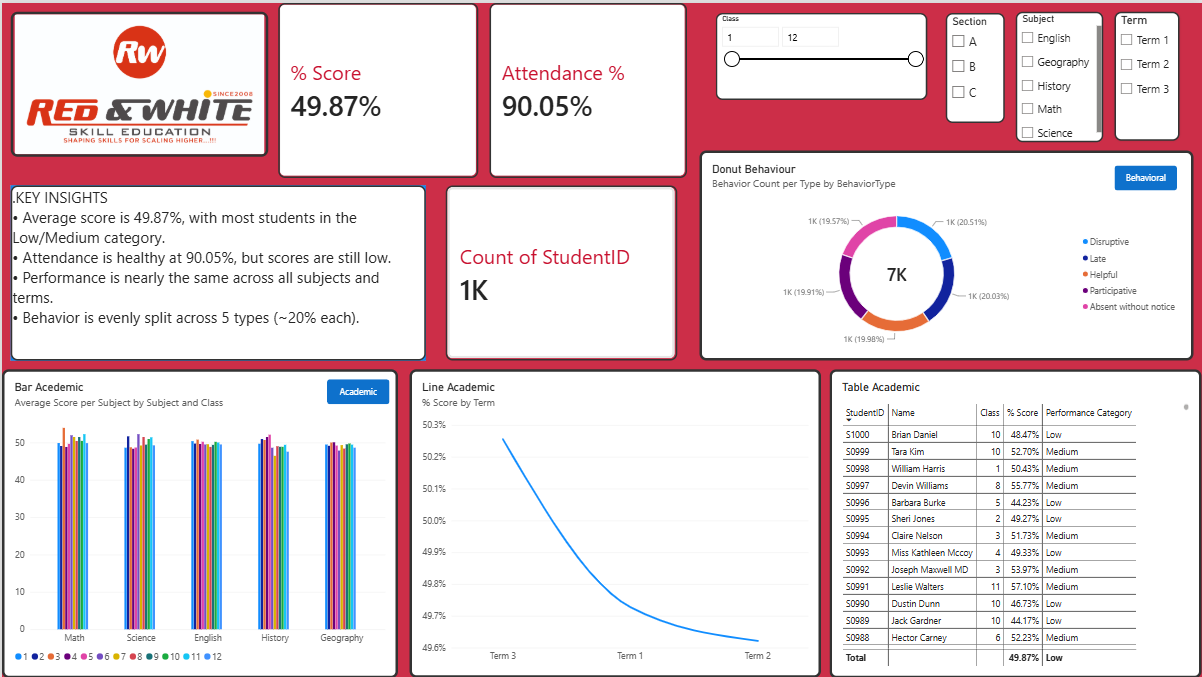

Layout of this report page (visuals, bound fields, positions):
{"tool":"powerbi","page":{"name":"Dashboard","canvas":[1920,1080],"ordinal":0},"visuals":[{"type":"cardVisual","fields":{"Data":["Count(Students csv.StudentID)"]},"box":[710,292,370,280],"z":0},{"type":"cardVisual","fields":{"Data":["Attendance csv.Attendance %"]},"box":[780,0,316,280],"z":1000},{"type":"cardVisual","fields":{"Data":["Scores csv.% Score"]},"box":[442,0,320,280],"z":2000},{"type":"clusteredColumnChart","title":"Bar Acedemic","fields":{"Category":["Scores csv.Subject"],"Series":["Students csv.Class"],"Y":["Scores csv.Average Score per Subject"]},"box":[0,586.3,633.4,494],"z":3000},{"type":"lineChart","title":"Line Academic","fields":{"Category":["Scores csv.Term"],"Y":["Scores csv.% Score"]},"box":[652,586,658.7,493.5],"z":4000},{"type":"tableEx","title":"Table Academic","fields":{"Values":["Students csv.StudentID","Students csv.Name","Students csv.Class","Scores csv.% Score","Scores csv.Performance Category"]},"box":[1324,586,595.4,494],"z":5000},{"type":"slicer","fields":{"Values":["Students csv.Class"]},"box":[1142,16,338.4,139.3],"z":6000},{"type":"slicer","fields":{"Values":["Students csv.Section"]},"box":[1510,16,94,176],"z":7000},{"type":"slicer","fields":{"Values":["Scores csv.Subject"]},"box":[1622,14,140,208.6],"z":8000},{"type":"slicer","fields":{"Values":["Scores csv.Term"]},"box":[1780,14,104,206],"z":9000},{"type":"donutChart","title":"Donut Behaviour","fields":{"Category":["Behavior csv.BehaviorType"],"Y":["Behavior csv.Behavior Count per Type"]},"box":[1116,236,790,336],"z":10000},{"type":"actionButton","box":[519.4,602.6,100,40],"z":10001},{"type":"actionButton","box":[1780,260,100,40],"z":10002},{"type":"image","box":[14,14,412,232],"z":10003},{"type":"shape","box":[14,292,664,280],"z":10004},{"type":"textbox","box":[14,292,664,280],"z":10005}]}

Visuals, with their boxes in screenshot pixels (x1, y1, x2, y2), scaled from the page's 1920x1080 canvas onto the 1202x677 screenshot:
cardVisual - Count(Students csv.StudentID): locate(444, 183, 676, 359)
cardVisual - Attendance csv.Attendance %: locate(488, 0, 686, 176)
cardVisual - Scores csv.% Score: locate(277, 0, 477, 176)
"Bar Acedemic" clusteredColumnChart: locate(0, 368, 397, 676)
"Line Academic" lineChart: locate(408, 367, 821, 676)
"Table Academic" tableEx: locate(829, 367, 1201, 676)
slicer - Students csv.Class: locate(715, 10, 927, 97)
slicer - Students csv.Section: locate(945, 10, 1004, 120)
slicer - Scores csv.Subject: locate(1015, 9, 1103, 140)
slicer - Scores csv.Term: locate(1114, 9, 1179, 138)
"Donut Behaviour" donutChart: locate(699, 148, 1193, 359)
actionButton: locate(325, 378, 388, 403)
actionButton: locate(1114, 163, 1177, 188)
image: locate(9, 9, 267, 154)
shape: locate(9, 183, 424, 359)
textbox: locate(9, 183, 424, 359)
